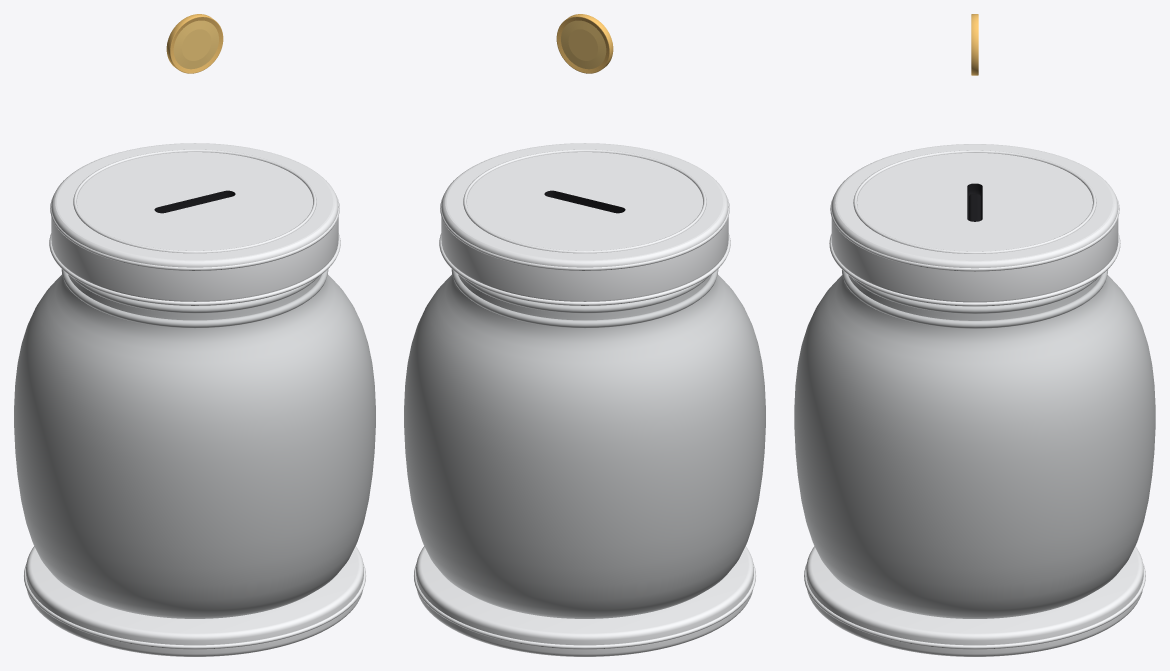
File: coin_jar.glb
The picture shows the model from 3 angles, left to right: view 1: azimuth 30°, elevation 25°; view 2: azimuth 150°, elevation 25°; view 3: azimuth 270°, elevation 25°; orthographic projection.
Visible parts, largest first — view 1: Jar_Glass, Jar_Lid, Jar_Base, Coin, Jar_Thread1, Jar_LidPlateRing, Jar_BaseRing, Jar_Thread2, Jar_LidRing1, Jar_LidRing2; view 2: Jar_Glass, Jar_Lid, Jar_Base, Coin, Jar_Thread1, Jar_LidPlateRing, Jar_BaseRing, Jar_Thread2, Jar_LidRing1, Jar_LidRing2; view 3: Jar_Glass, Jar_Lid, Jar_Base, Jar_Thread1, Jar_LidPlateRing, Jar_BaseRing, Jar_Thread2, Jar_LidRing1, Jar_LidRing2.
Part boxes in pixels (box(x1,y1,x2,y2)): Jar_Glass: box(14, 274, 375, 618); Jar_Lid: box(51, 143, 338, 301); Jar_Base: box(26, 546, 363, 656); Coin: box(166, 14, 223, 73); Jar_Thread1: box(61, 269, 328, 328); Jar_LidPlateRing: box(73, 149, 316, 253); Jar_BaseRing: box(24, 564, 365, 649); Jar_Thread2: box(71, 276, 318, 313); Jar_LidRing1: box(49, 233, 340, 305); Jar_LidRing2: box(50, 195, 339, 270); Jar_Glass: box(404, 274, 765, 618); Jar_Lid: box(441, 143, 728, 301); Jar_Base: box(416, 546, 753, 656); Coin: box(556, 14, 613, 73); Jar_Thread1: box(451, 269, 718, 328); Jar_LidPlateRing: box(463, 149, 706, 253); Jar_BaseRing: box(414, 564, 755, 649); Jar_Thread2: box(461, 276, 708, 313); Jar_LidRing1: box(439, 233, 730, 305); Jar_LidRing2: box(440, 195, 729, 270); Jar_Glass: box(794, 275, 1155, 618); Jar_Lid: box(831, 144, 1118, 302); Jar_Base: box(806, 546, 1143, 656); Jar_Thread1: box(842, 270, 1107, 328); Jar_LidPlateRing: box(853, 150, 1096, 253); Jar_BaseRing: box(804, 564, 1145, 649); Jar_Thread2: box(851, 277, 1098, 313); Jar_LidRing1: box(829, 234, 1120, 306); Jar_LidRing2: box(830, 196, 1119, 271).
Bounding box in the file's own units: 1.99 × 3.47 × 1.99.
